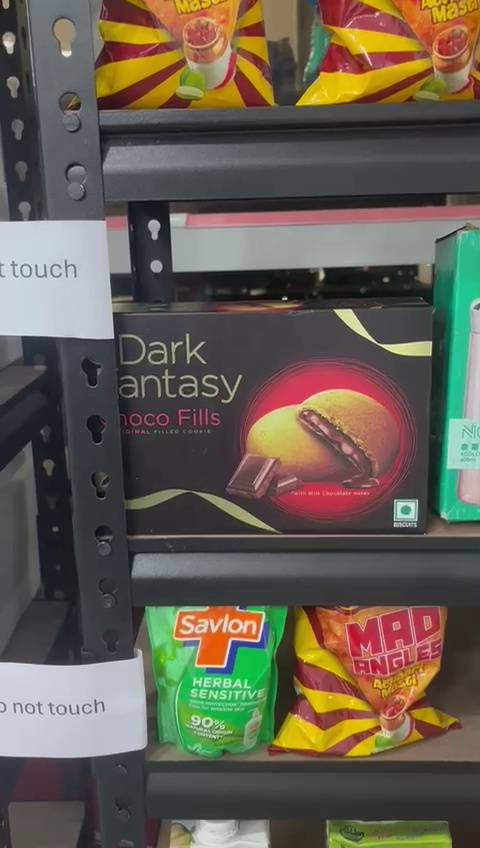Dark Fantasy: (112, 305, 435, 530)
